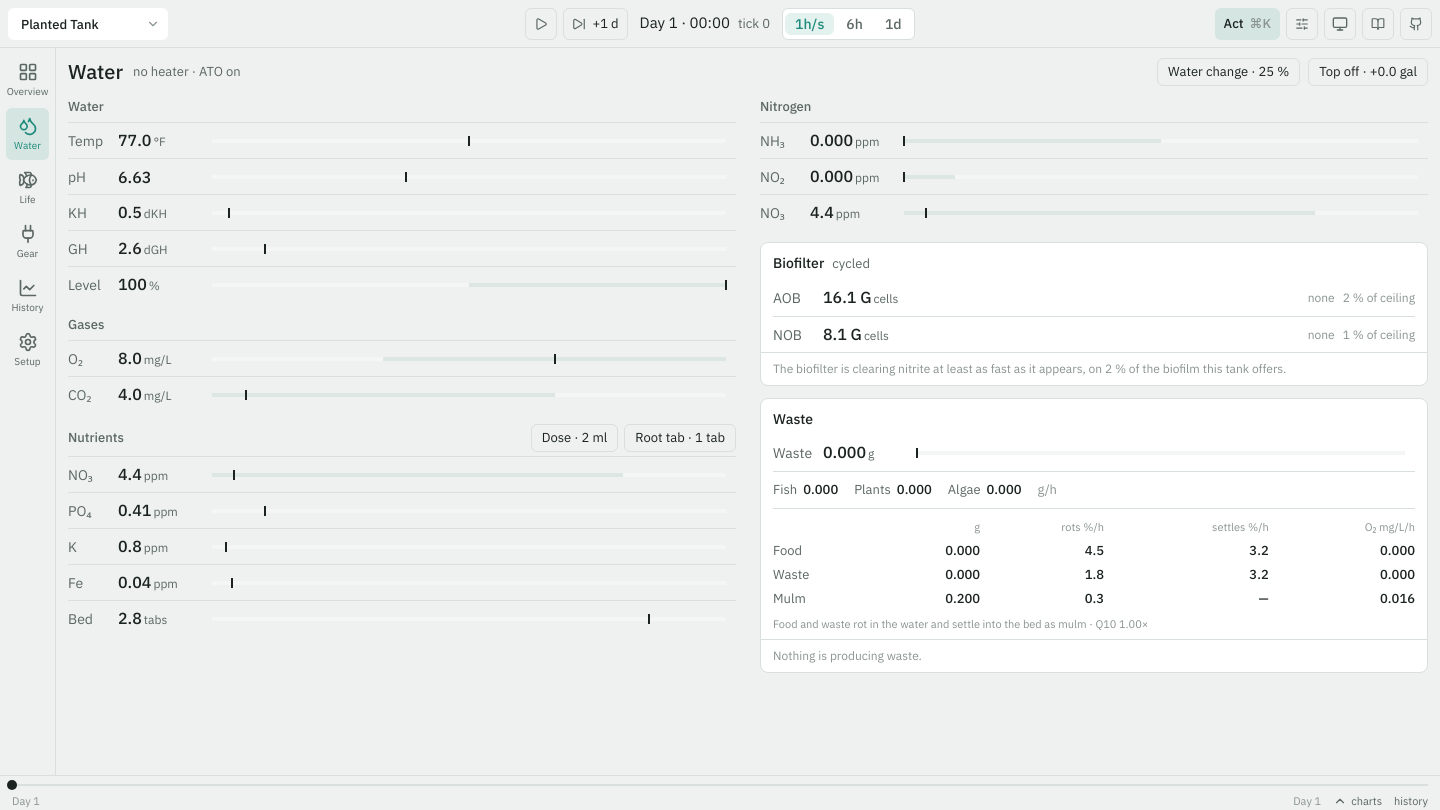
it: a contextual verb › opens the same sheet from the module that owns it
Click the button "Water change · 25 %" at (1229, 72), box x1=1157 y1=58 x2=1300 y2=86
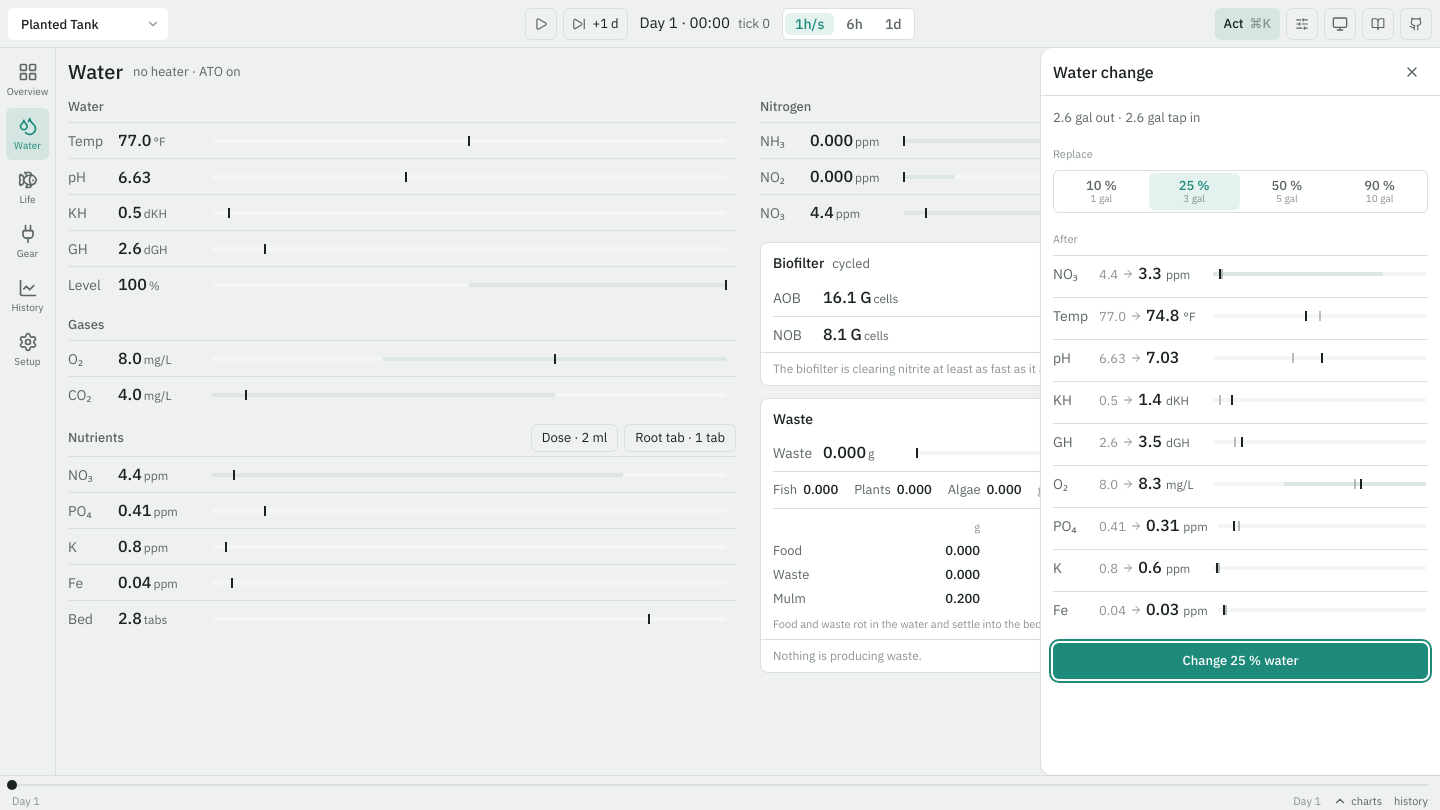
Check: the dialog "Water change" is shown, box x1=1040 y1=48 x2=1439 y2=775
Click the button "Dose · 2 ml" at (574, 438), box x1=531 y1=424 x2=618 y2=452
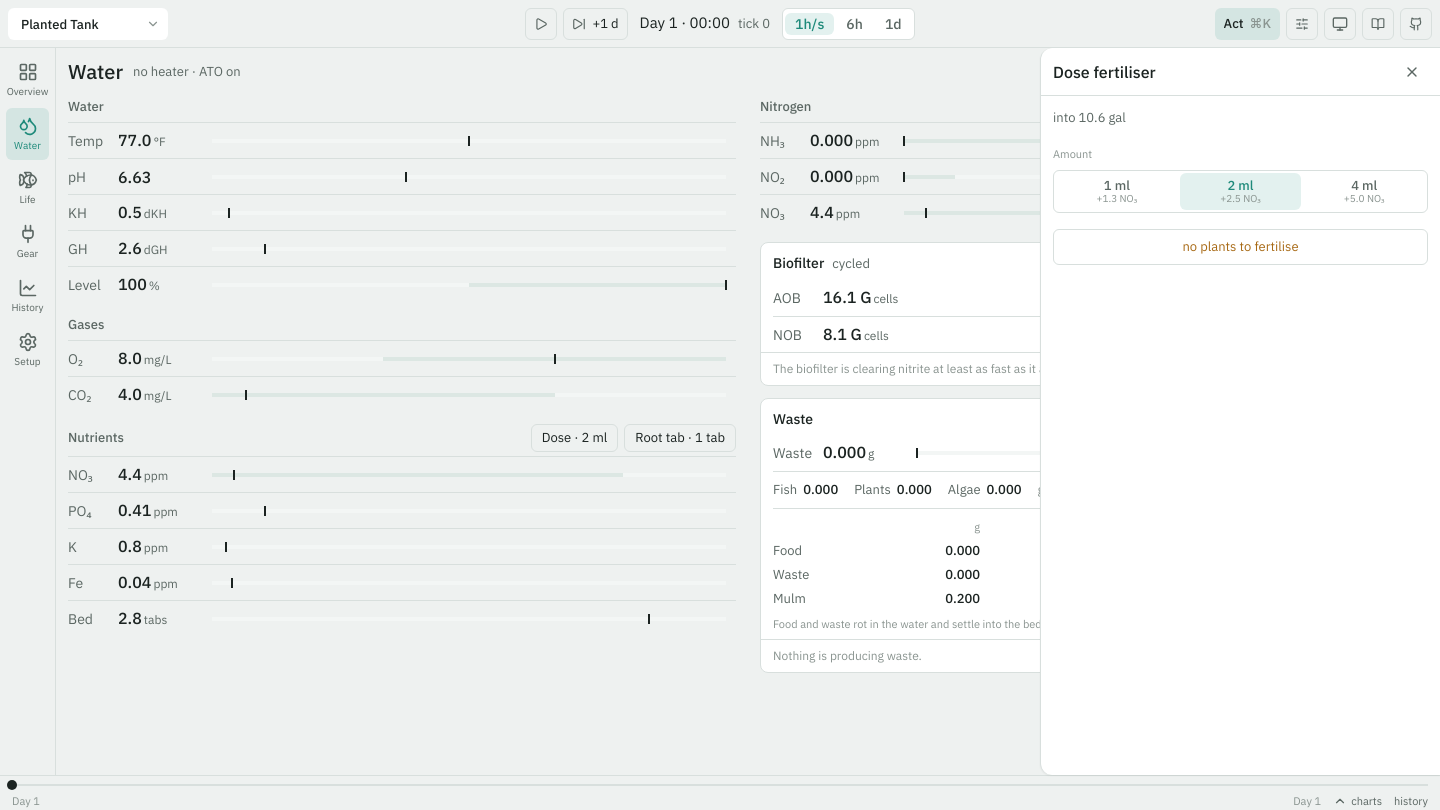
Check: the dialog "Dose fertiliser" is shown, box x1=1040 y1=48 x2=1439 y2=775
